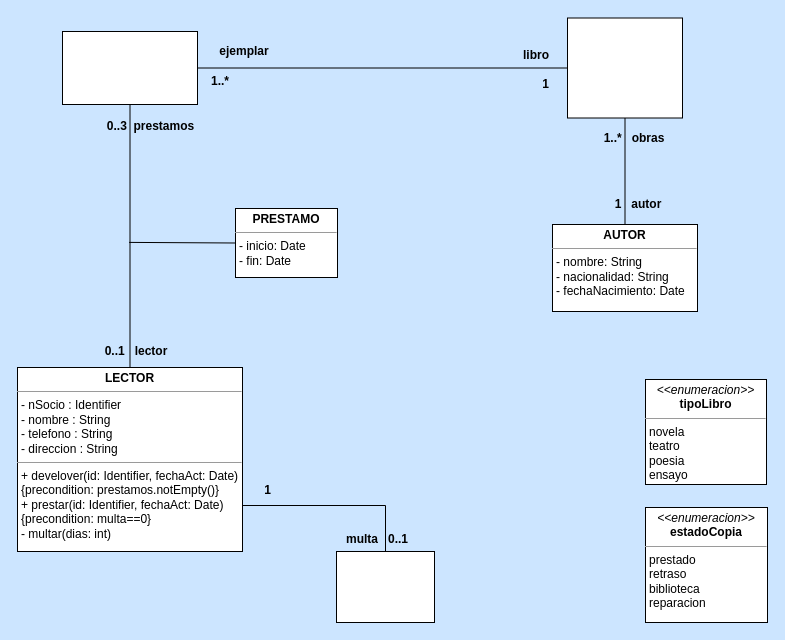
This 785x640 diagram has some shape labels left out. The shapes that lost their labels are listed below. From the top down, each one's centre as x and y in pixels, then its label:
[130,67]: COPIA - id: Identifier - estado: estadoCopia
[624,67]: LIBRO - titulo: String - tipo: tipoLibro - editorial: String - año: int
[385,586]: MULTA - fInicio: Date - fFin: Date
